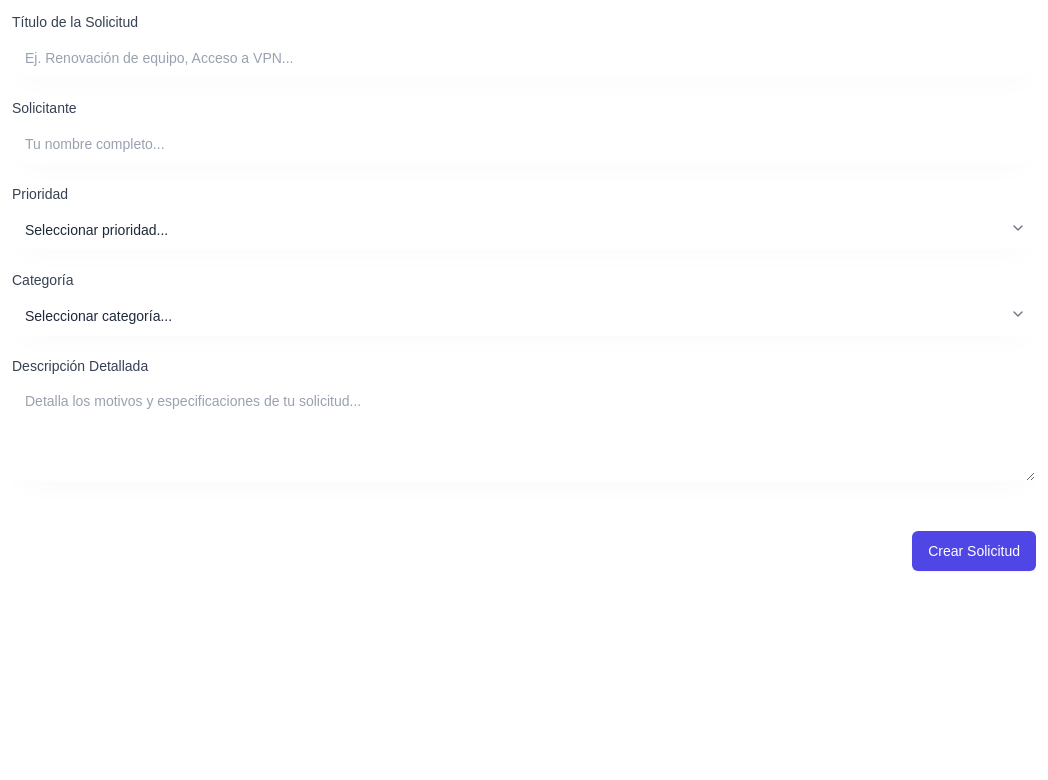
Test: RequestForm Component › muestra errores de validación si se envía vacío (Validación de campos obligatorios)
Click the button "Crear Solicitud" at (974, 551), box [912,531,1036,571]
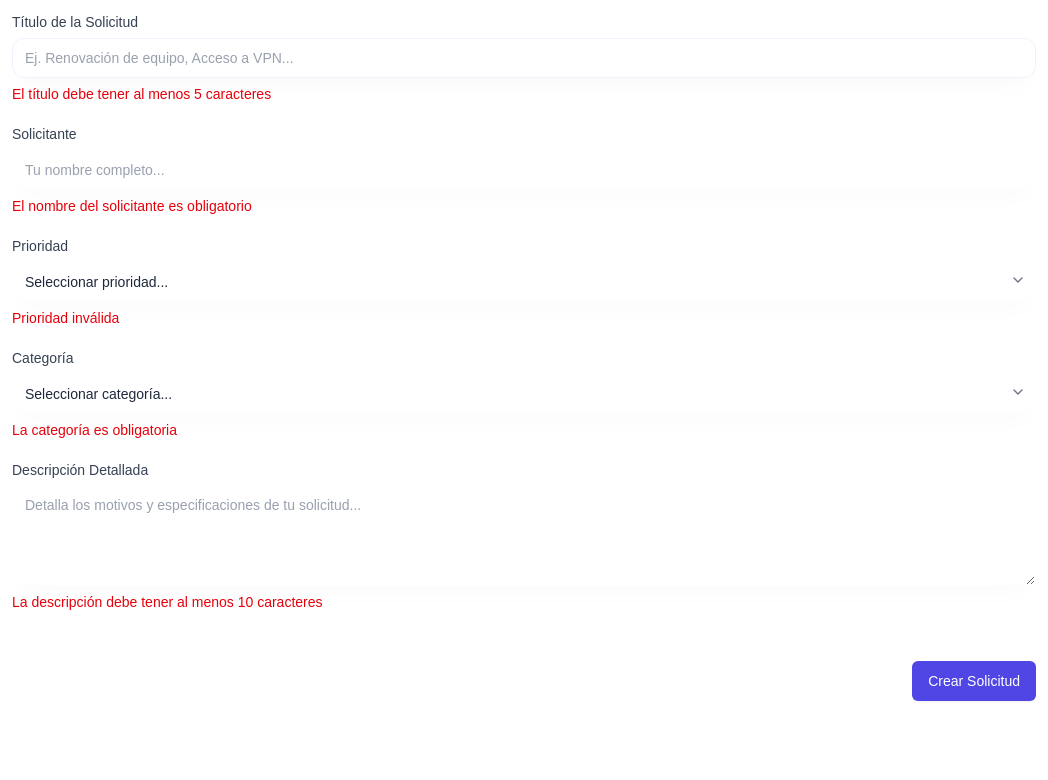
Expected: the text "El título debe tener al menos 5 caracteres" is shown, [12,86,271,102]
Expected: the text "El nombre del solicitante es obligatorio" is shown, [12,198,252,214]
Expected: the text "La categoría es obligatoria" is shown, [12,422,177,438]
